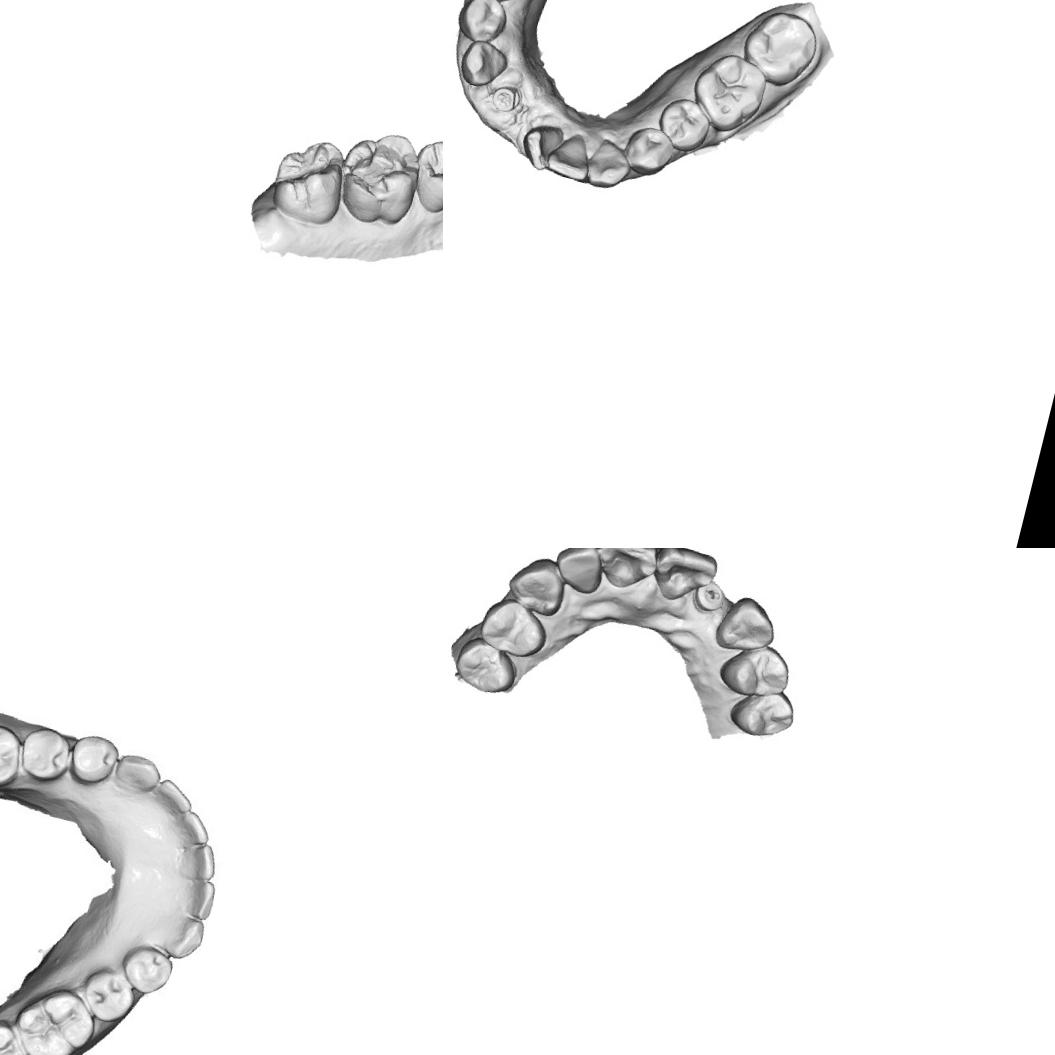canine: (710, 590, 781, 659), (502, 549, 571, 618), (453, 32, 515, 95), (618, 120, 678, 182), (109, 748, 165, 800), (160, 910, 205, 958)
implant: (486, 80, 526, 118)
implant_minus: (689, 577, 727, 616)
incisor: (647, 548, 720, 609), (590, 548, 661, 595), (542, 125, 597, 185), (580, 133, 634, 194), (514, 117, 566, 176), (549, 548, 609, 596), (167, 838, 222, 886), (168, 874, 218, 922), (147, 772, 194, 819), (174, 808, 212, 856)
inlay: (342, 135, 414, 205)
molar: (264, 130, 354, 230), (682, 43, 774, 140), (734, 1, 824, 93), (8, 980, 92, 1055), (0, 713, 26, 798)
premolar: (713, 634, 795, 705), (474, 592, 554, 662), (449, 632, 522, 698), (724, 681, 799, 744), (64, 725, 130, 792), (651, 91, 715, 156), (76, 962, 134, 1028), (403, 132, 443, 219), (15, 727, 73, 786), (119, 938, 177, 994), (450, 0, 515, 47)
